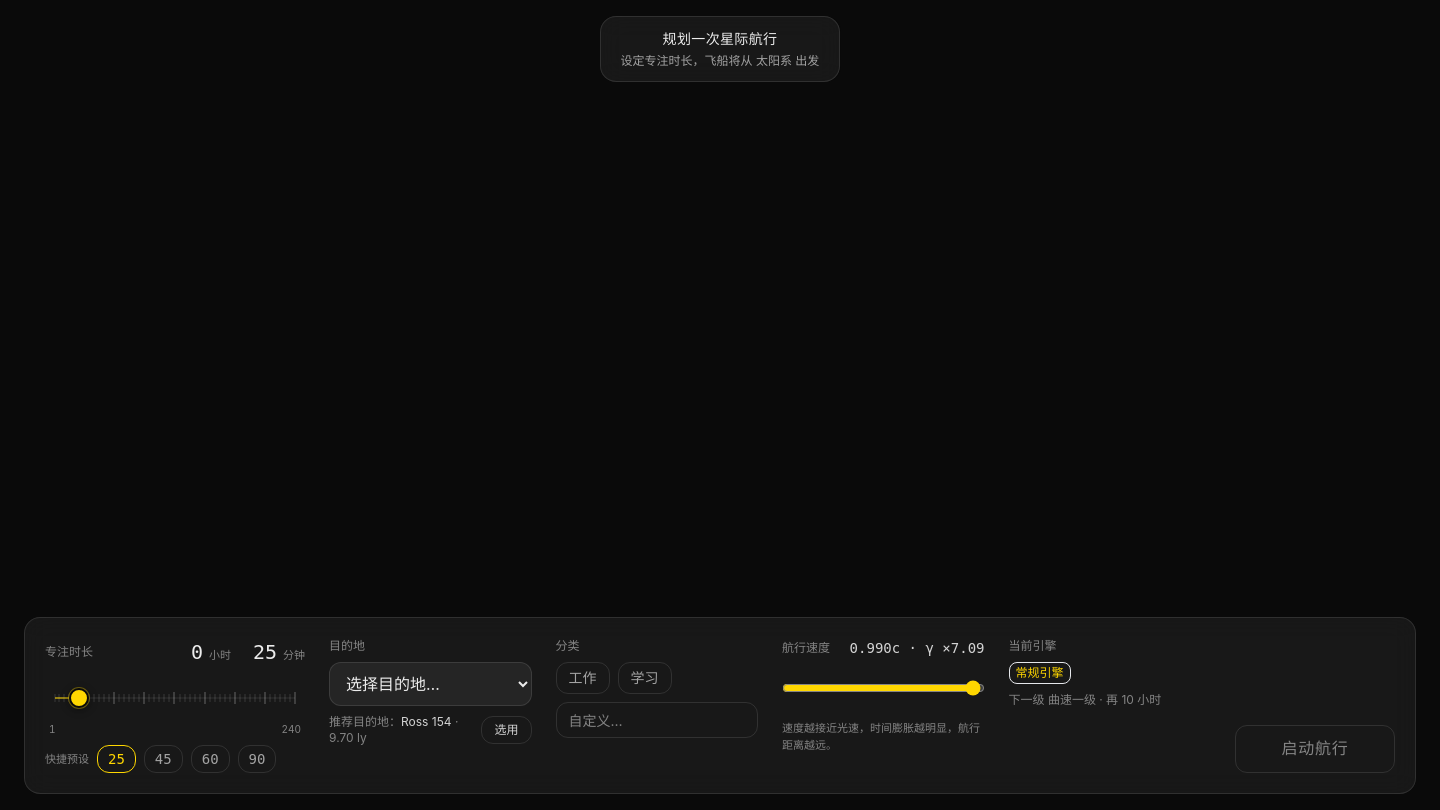
Test: SetupPanel › 目录星（不在 DESTINATION_STARS）设为目的地后正确显示（修复 bug）
Select "Ross 154 · 9.70 ly" in the dropdown labelled "目的地". click: (430, 684)
box: [329,662,532,706]
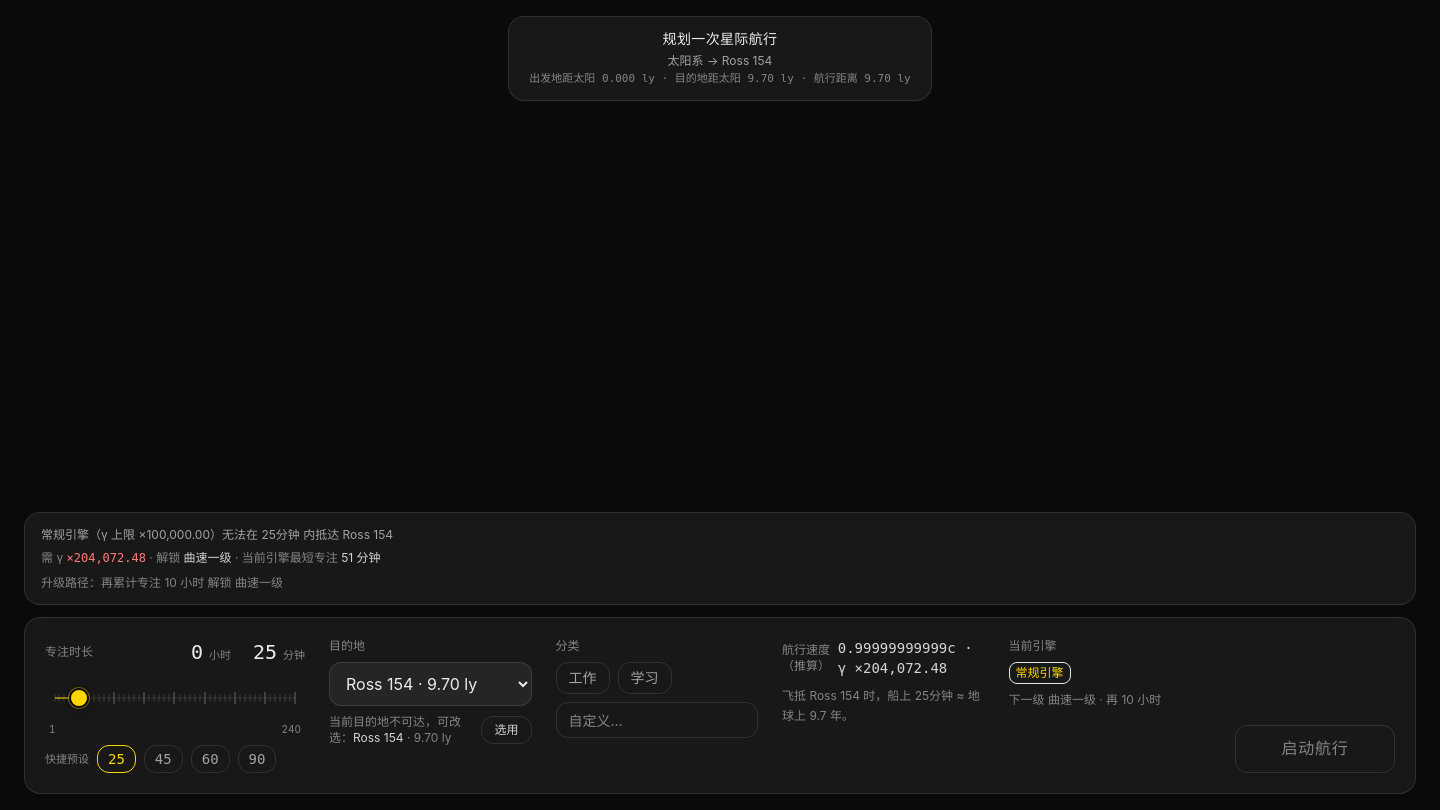
Expected: the text "太阳系 → Ross 154" is shown, [668,53,772,68]
